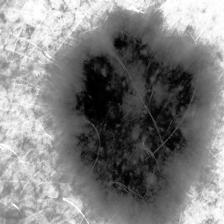Benign Marking or Mole: (64, 27, 211, 222)
